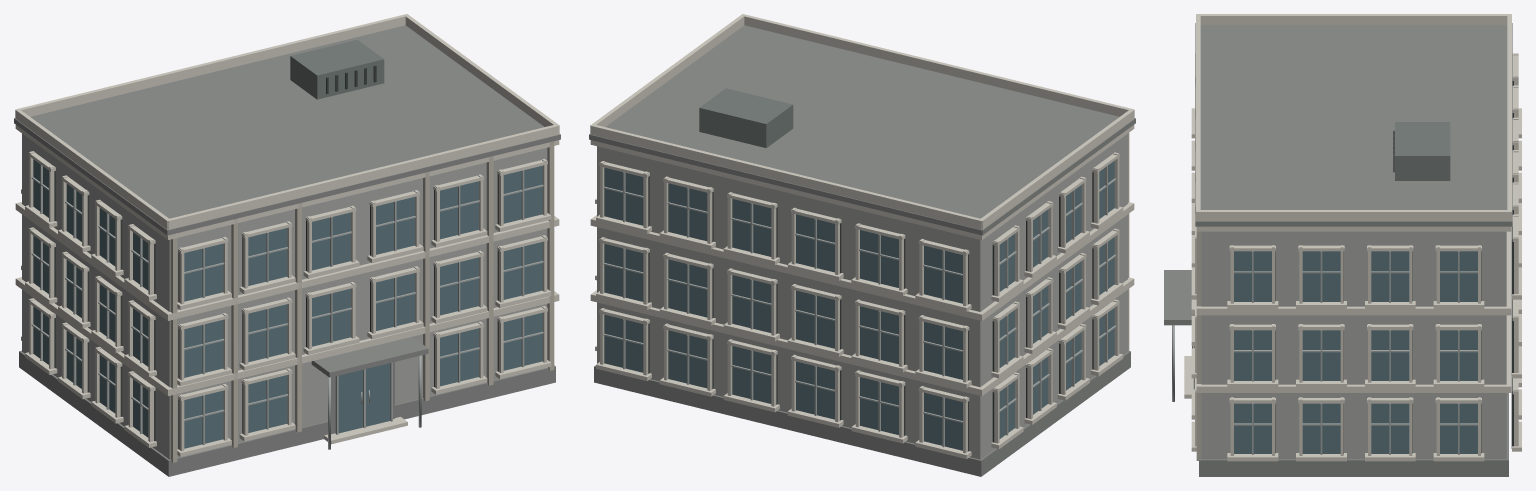
The model's file is municipal-office.glb.
3 views of the same model, side by side, from view 1: azimuth 30°, elevation 25°; view 2: azimuth 150°, elevation 25°; view 3: azimuth 270°, elevation 25° (orthographic). The views are drawn at different scales.
Parts seen in each view (by area): view 1: municipal-office; view 2: municipal-office; view 3: municipal-office.
Part boxes in pixels (bbox=[...]): municipal-office: bbox=[14, 14, 560, 476]; municipal-office: bbox=[589, 14, 1135, 476]; municipal-office: bbox=[1164, 14, 1521, 476].
Bounding box in the file's own units: 12.65 × 8.16 × 9.38.
